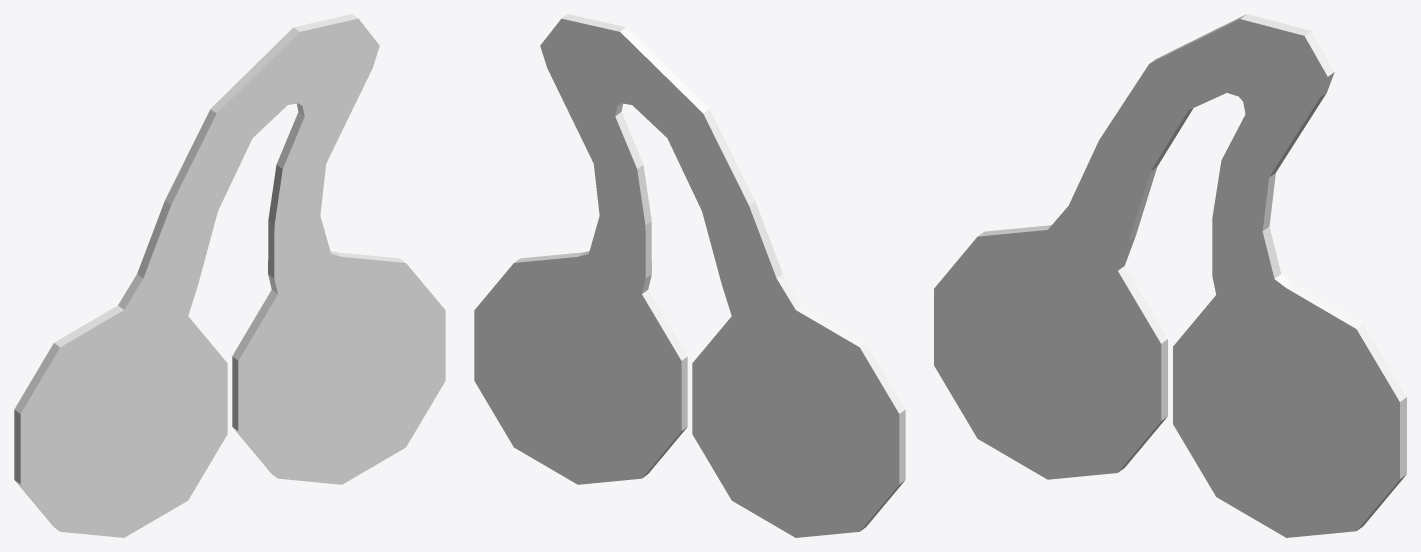
Rendered from cherry1.fbx.
The picture shows the model from 3 angles, left to right: view 1: azimuth 30°, elevation 25°; view 2: azimuth 150°, elevation 25°; view 3: azimuth 330°, elevation 25°; orthographic projection. The views are drawn at different scales.
Parts seen in each view (by area): view 1: cherry1; view 2: cherry1; view 3: cherry1.
Part boxes in pixels (left/top/right/bottom): cherry1: left=14, top=14, right=445, bottom=537; cherry1: left=474, top=14, right=905, bottom=537; cherry1: left=934, top=14, right=1406, bottom=537.
Bounding box in the file's own units: 1.95 × 2.03 × 0.05.
